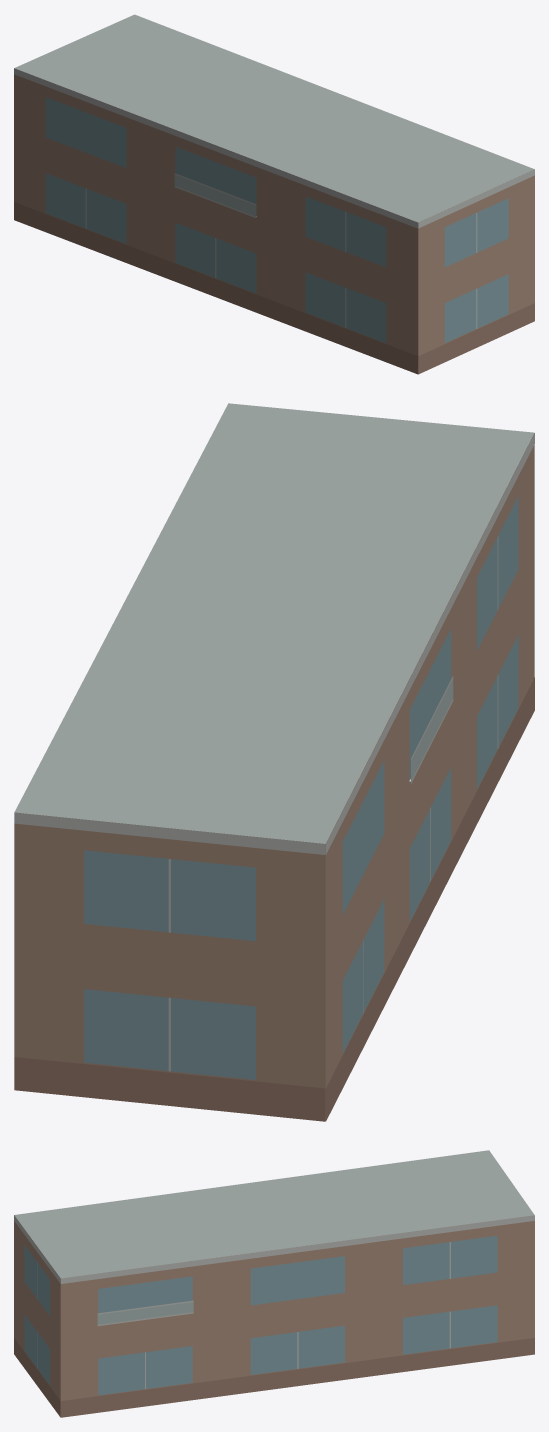
File: survey-upis-32623245.glb
The picture shows the model from 3 angles, top to bottom: view 1: azimuth 30°, elevation 25°; view 2: azimuth 150°, elevation 25°; view 3: azimuth 270°, elevation 25°; orthographic projection. The views are drawn at different scales.
Visible parts, largest first — view 1: survey-upis-32623245.tmp; view 2: survey-upis-32623245.tmp; view 3: survey-upis-32623245.tmp.
Boxes of the visible parts, x1,y1,x2,y2 form: survey-upis-32623245.tmp: [14, 14, 534, 374]; survey-upis-32623245.tmp: [14, 403, 534, 1121]; survey-upis-32623245.tmp: [14, 1150, 534, 1417].
Bounding box in the file's own units: 12.07 × 6.1 × 20.69.
